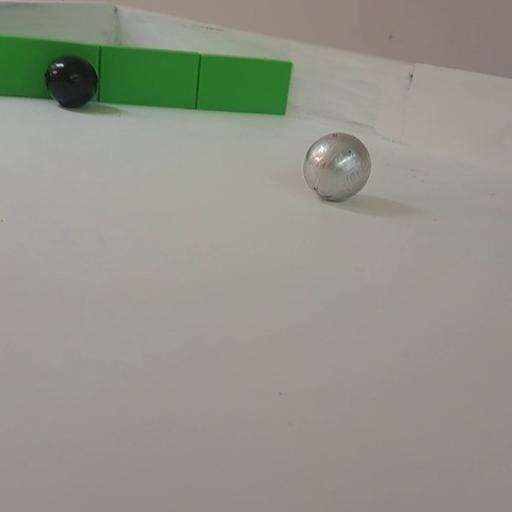alive: (303, 133, 370, 201)
dead: (45, 55, 98, 108)
